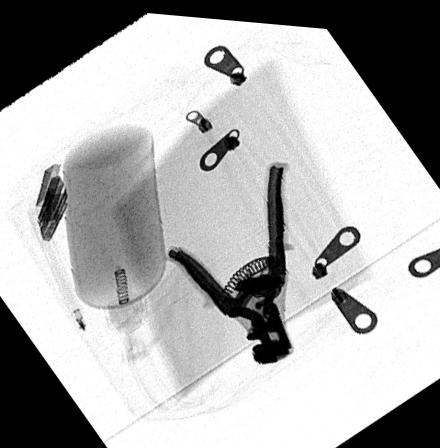Pliers: (165, 158, 293, 358)
